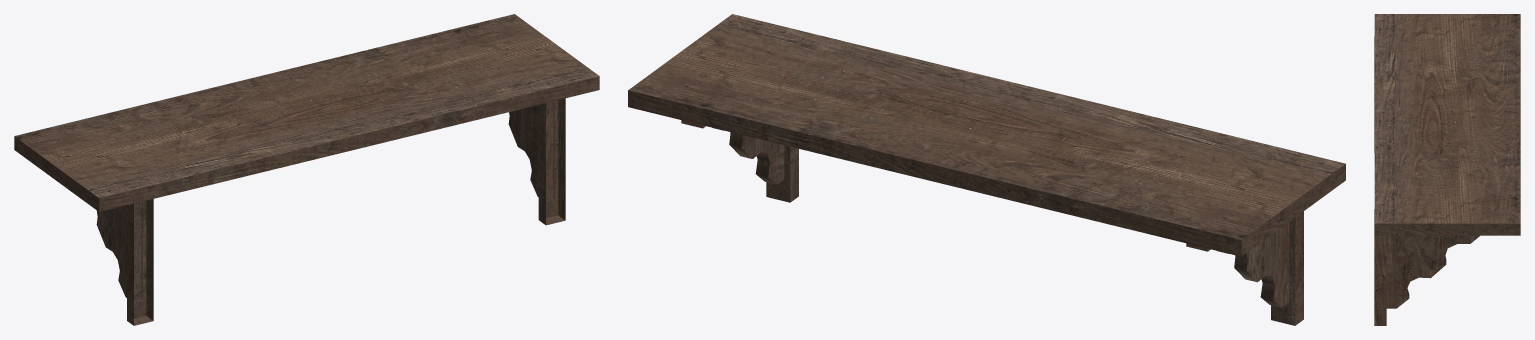
The model's file is mw_wall_shelf_01.FBX.
3 views of the same model, side by side, from view 1: azimuth 30°, elevation 25°; view 2: azimuth 150°, elevation 25°; view 3: azimuth 270°, elevation 25° (orthographic). The views are drawn at different scales.
Parts seen in each view (by area): view 1: mw_wall_shelf_01; view 2: mw_wall_shelf_01; view 3: mw_wall_shelf_01.
Boxes of the visible parts, box(x1,y1,x2,y2) form: mw_wall_shelf_01: box(14, 14, 599, 325); mw_wall_shelf_01: box(628, 14, 1345, 325); mw_wall_shelf_01: box(1374, 14, 1520, 325).
Size of the model in its own units: 171 by 44.33 by 50.47.
